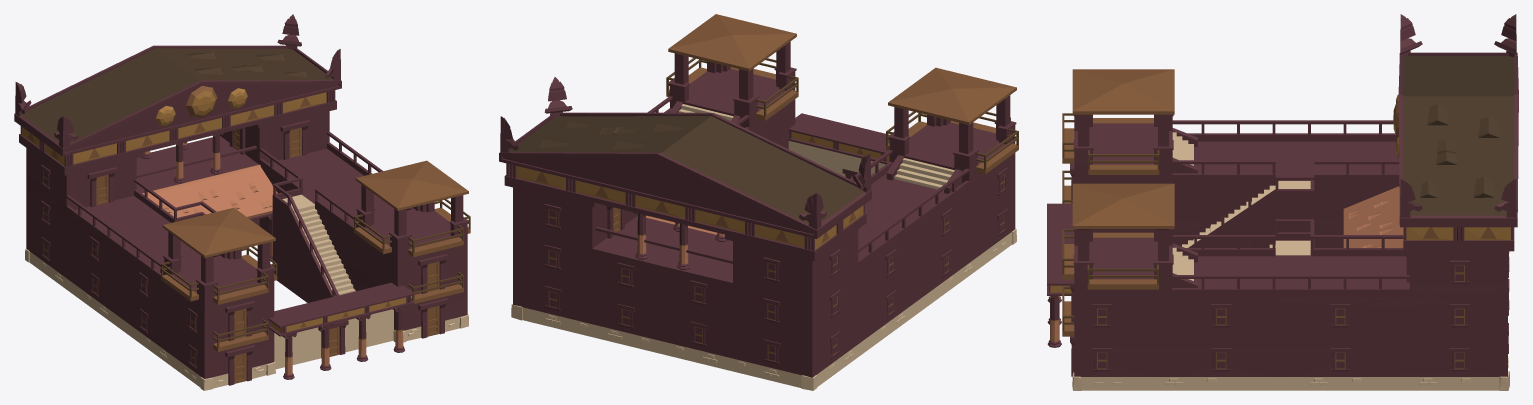
Rendered from SM_Mannor_Empire.fbx.
The picture shows the model from 3 angles, left to right: view 1: azimuth 30°, elevation 25°; view 2: azimuth 150°, elevation 25°; view 3: azimuth 270°, elevation 25°; orthographic projection. The views are drawn at different scales.
Visible parts, largest first — view 1: SM_Mannor_Empire; view 2: SM_Mannor_Empire; view 3: SM_Mannor_Empire.
Boxes of the visible parts, <box> form: SM_Mannor_Empire: <box>14,14,470,390</box>; SM_Mannor_Empire: <box>499,14,1018,390</box>; SM_Mannor_Empire: <box>1047,14,1518,390</box>.
Size of the model in its own units: 21.26 by 13 by 25.5.
